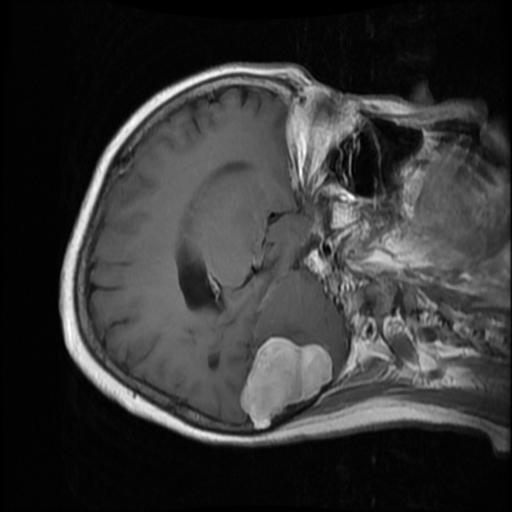meningioma: (239, 336, 332, 430)
